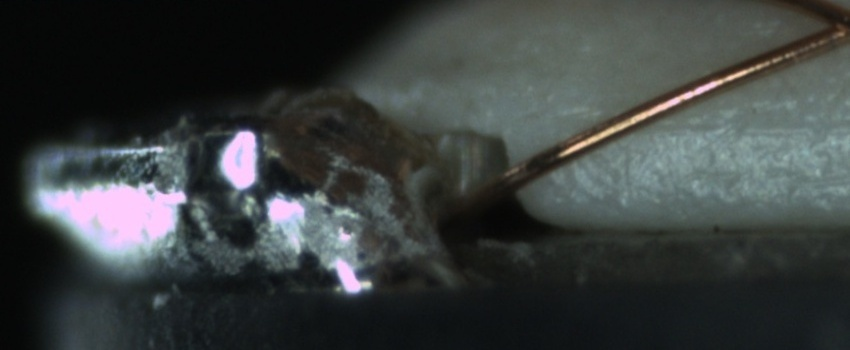CL: (799, 2, 850, 57)
DL: (626, 89, 850, 158)
